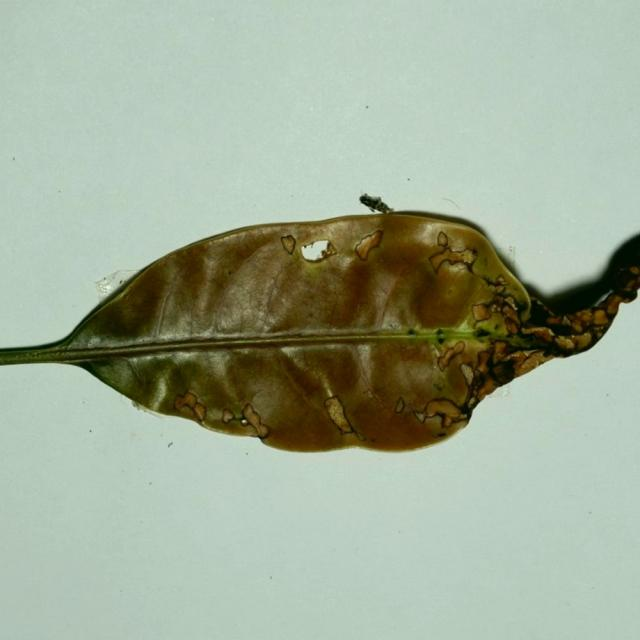Anthracnose: (427, 232, 476, 276), (322, 394, 364, 440), (94, 270, 138, 301), (241, 403, 270, 439), (353, 230, 384, 262), (437, 339, 466, 372), (301, 241, 333, 265), (471, 303, 491, 321), (280, 234, 297, 255), (222, 410, 234, 423), (394, 398, 404, 413)
Mango: (0, 196, 639, 456)
